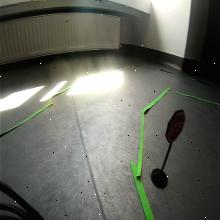stop: (165, 109, 187, 143)
